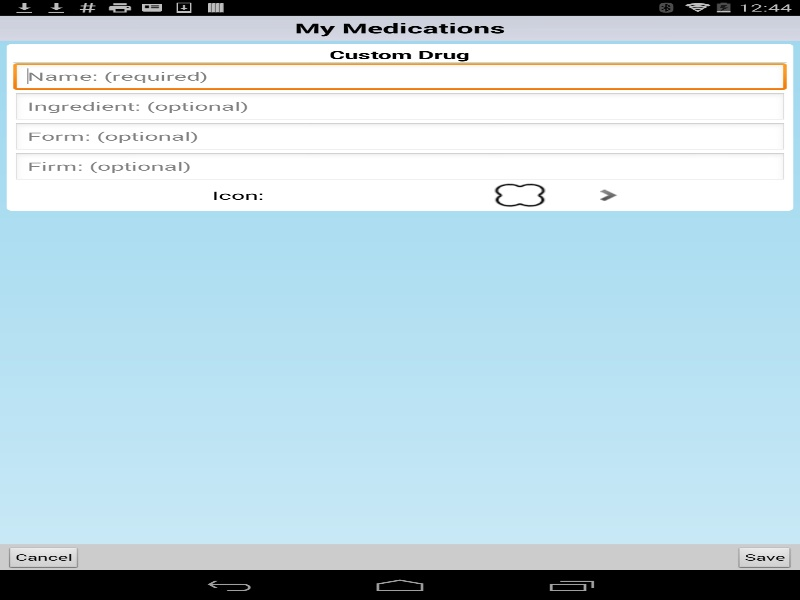Button: (6, 547, 80, 570), (736, 547, 793, 570)
Input: (13, 62, 786, 92), (13, 92, 786, 122), (13, 122, 786, 152), (13, 152, 786, 182)
